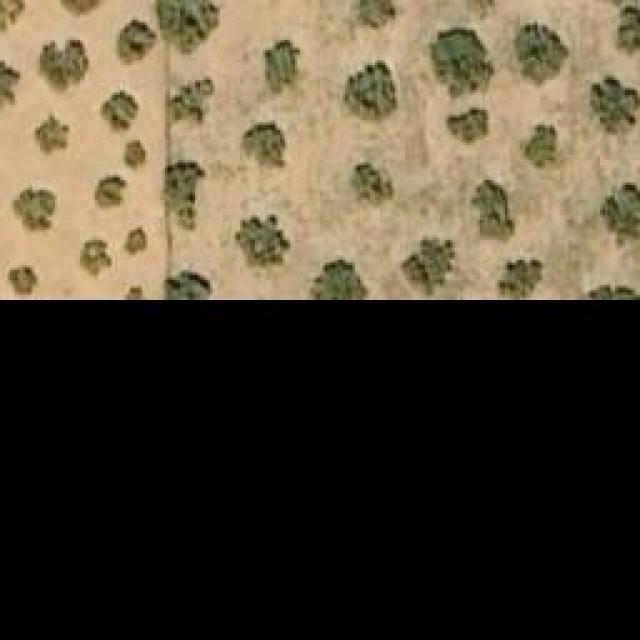Tree: (430, 28, 495, 98), (343, 55, 398, 120), (158, 0, 221, 55), (515, 23, 570, 86), (160, 160, 205, 233), (403, 240, 456, 298), (590, 73, 640, 133), (235, 215, 290, 268), (470, 178, 515, 241), (38, 40, 88, 95), (308, 260, 371, 298), (170, 78, 215, 131), (12, 185, 60, 233), (600, 183, 640, 238), (243, 118, 286, 168), (262, 40, 300, 95), (100, 90, 143, 133), (350, 163, 393, 206), (495, 260, 543, 298), (35, 115, 73, 160), (357, 0, 405, 30), (525, 125, 558, 168), (120, 20, 155, 60), (448, 108, 488, 143), (615, 5, 640, 60), (165, 270, 213, 298), (78, 240, 113, 278), (0, 55, 22, 115), (95, 175, 128, 213), (53, 0, 106, 18), (0, 0, 25, 35), (120, 228, 148, 258), (7, 265, 35, 295), (123, 140, 146, 168)
